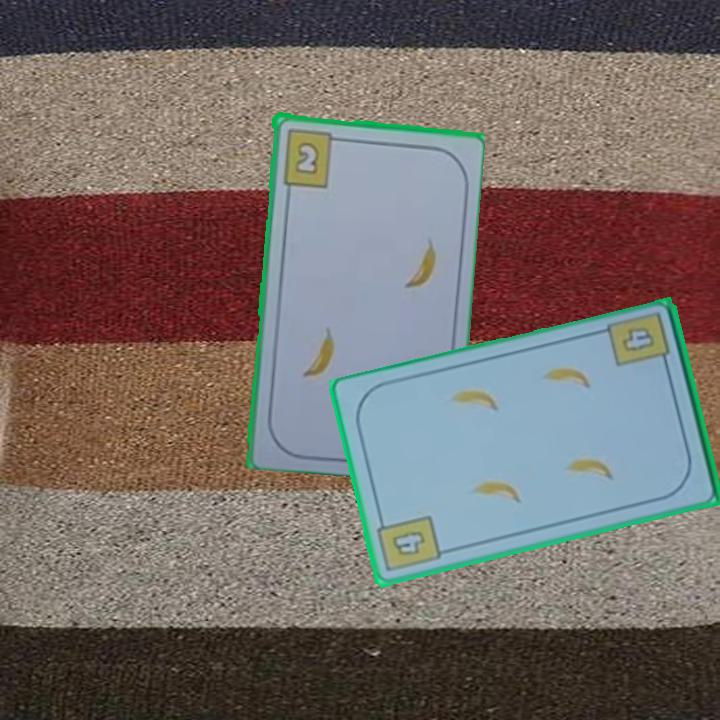2b: (278, 125, 344, 189)
4b: (374, 512, 444, 576), (618, 323, 658, 356)
